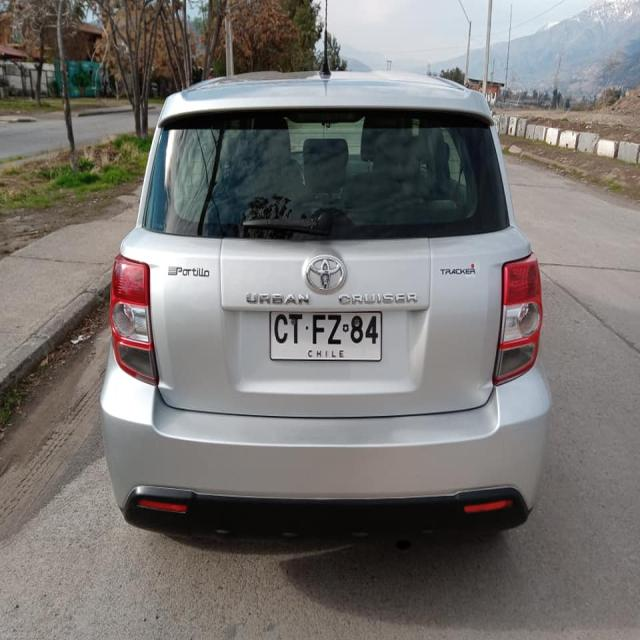patente: (268, 309, 382, 362)
